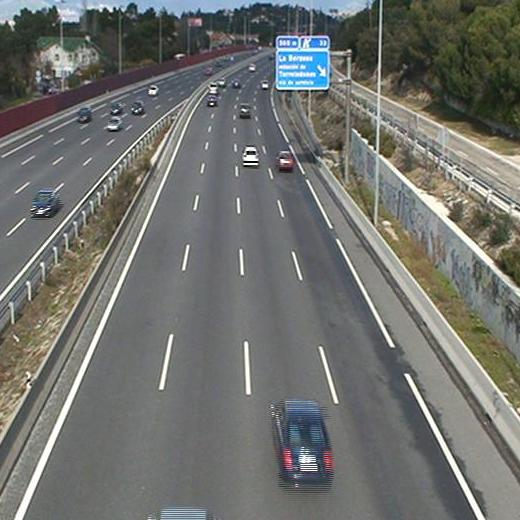car: (263, 392, 339, 497), (238, 141, 263, 169), (276, 149, 295, 174), (238, 102, 252, 120), (205, 93, 220, 107)
